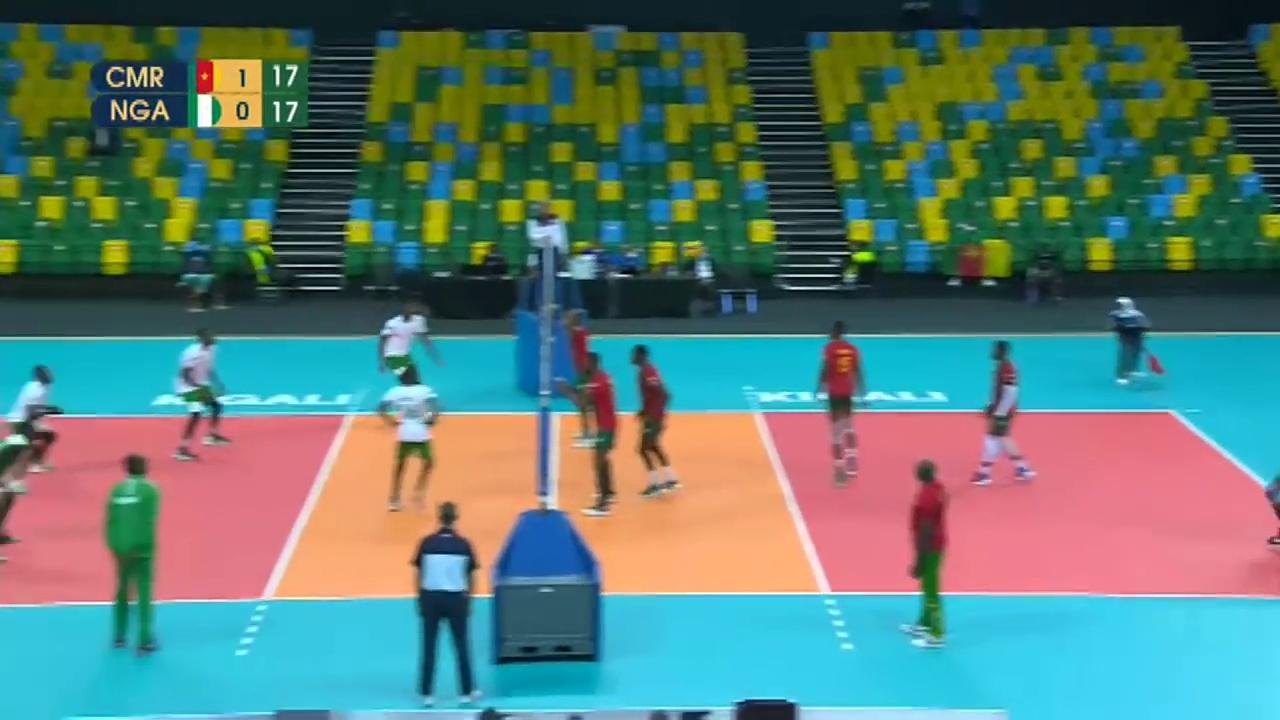player: (615, 344, 677, 500), (159, 330, 233, 456), (969, 346, 1033, 484), (566, 356, 619, 521), (379, 369, 440, 512), (377, 300, 445, 424), (819, 324, 865, 480), (2, 368, 59, 482), (563, 315, 606, 451), (0, 423, 39, 561)
refree: (408, 499, 488, 710), (1110, 297, 1169, 385), (528, 201, 569, 284)
